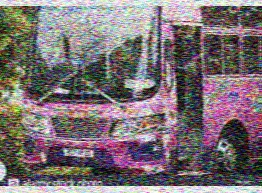bus: (22, 6, 261, 178)
